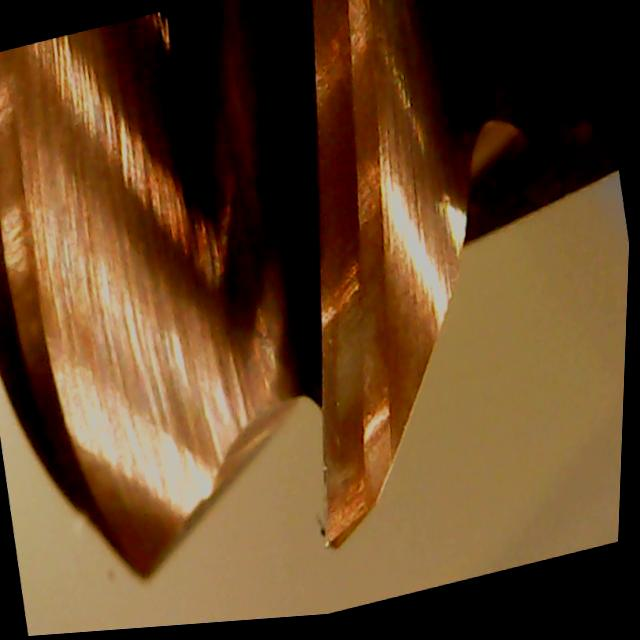Tool-wear-class-0: (253, 170, 467, 568)
